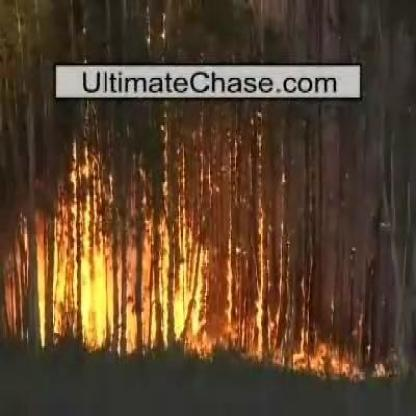foggia-v2-map80-epoch100 - v1 4323: (81, 240, 113, 350), (175, 274, 205, 344)
